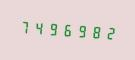eight: (87, 21, 100, 42)
four: (31, 17, 44, 38)
nine: (45, 18, 58, 39), (73, 20, 86, 41)
seven: (17, 16, 30, 37)
six: (59, 19, 72, 40)
two: (101, 22, 114, 43)
